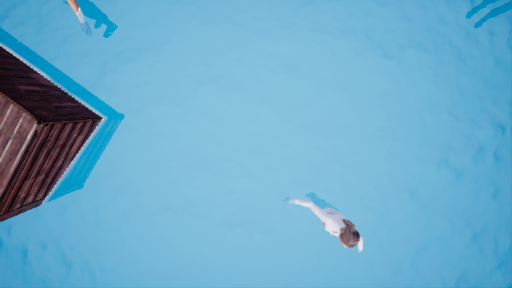person: (292, 190, 363, 255)
